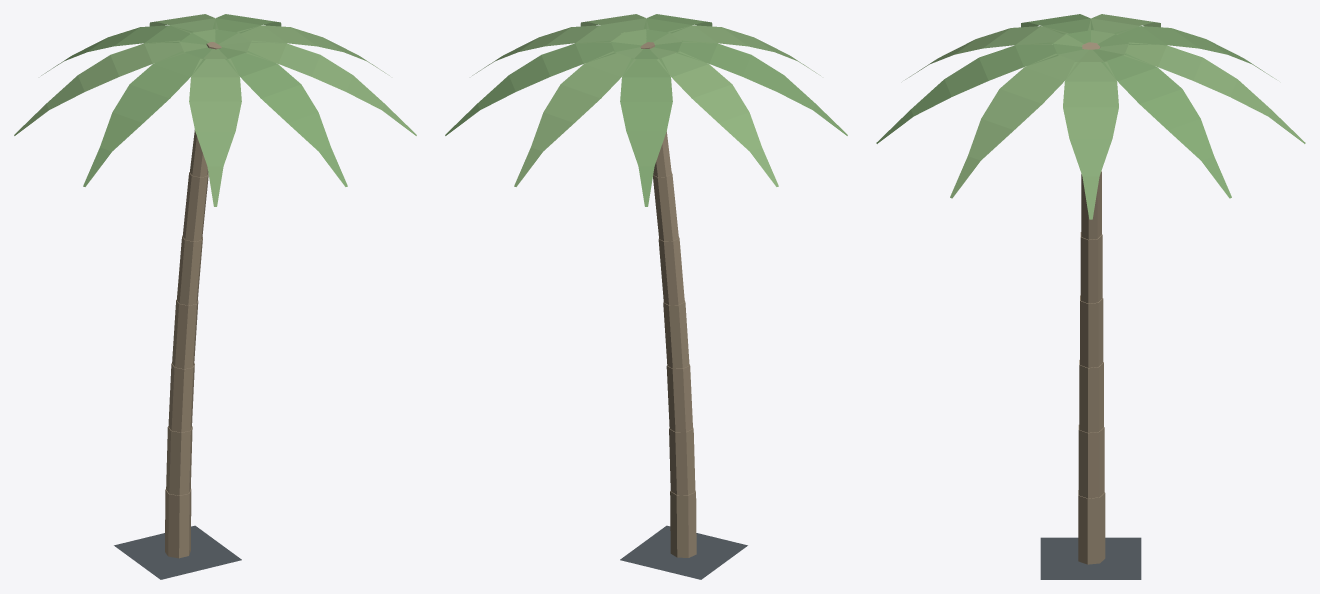
The model's file is pohon_kelapa.glb.
3 renders of one model, left to right at view 1: azimuth 30°, elevation 25°; view 2: azimuth 150°, elevation 25°; view 3: azimuth 270°, elevation 25°, orthographic. The views are drawn at different scales.
Parts seen in each view (by area): view 1: main; view 2: main; view 3: main.
Part boxes in pixels (x1,y1,x2,y2): main: [14, 14, 416, 579]; main: [445, 14, 847, 579]; main: [876, 14, 1305, 579].
Bounding box in the file's own units: 5.05 × 7.04 × 5.13.
